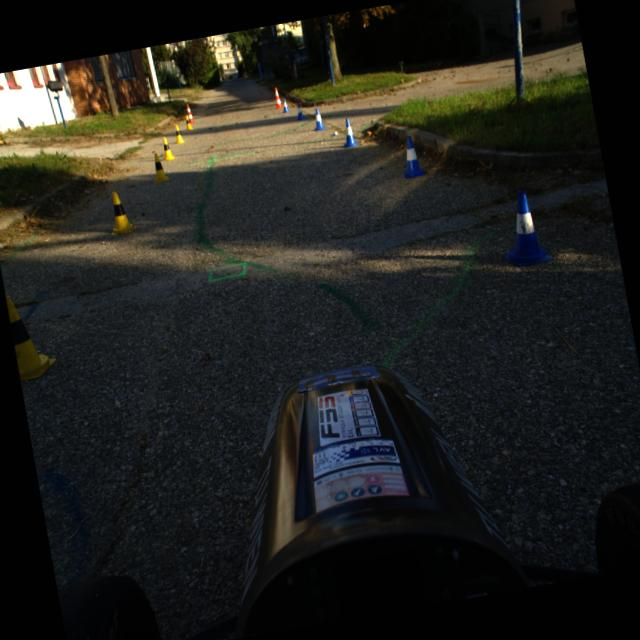blue_cone: (493, 186, 553, 269), (398, 134, 424, 178), (339, 117, 358, 147), (311, 108, 325, 130), (294, 102, 305, 120), (280, 98, 290, 112)
large_orange_cone: (272, 85, 284, 108), (185, 102, 195, 124)
yellow_cone: (6, 288, 58, 381), (104, 188, 136, 235), (148, 152, 170, 184), (157, 135, 175, 160), (172, 123, 185, 143), (183, 114, 193, 130)
